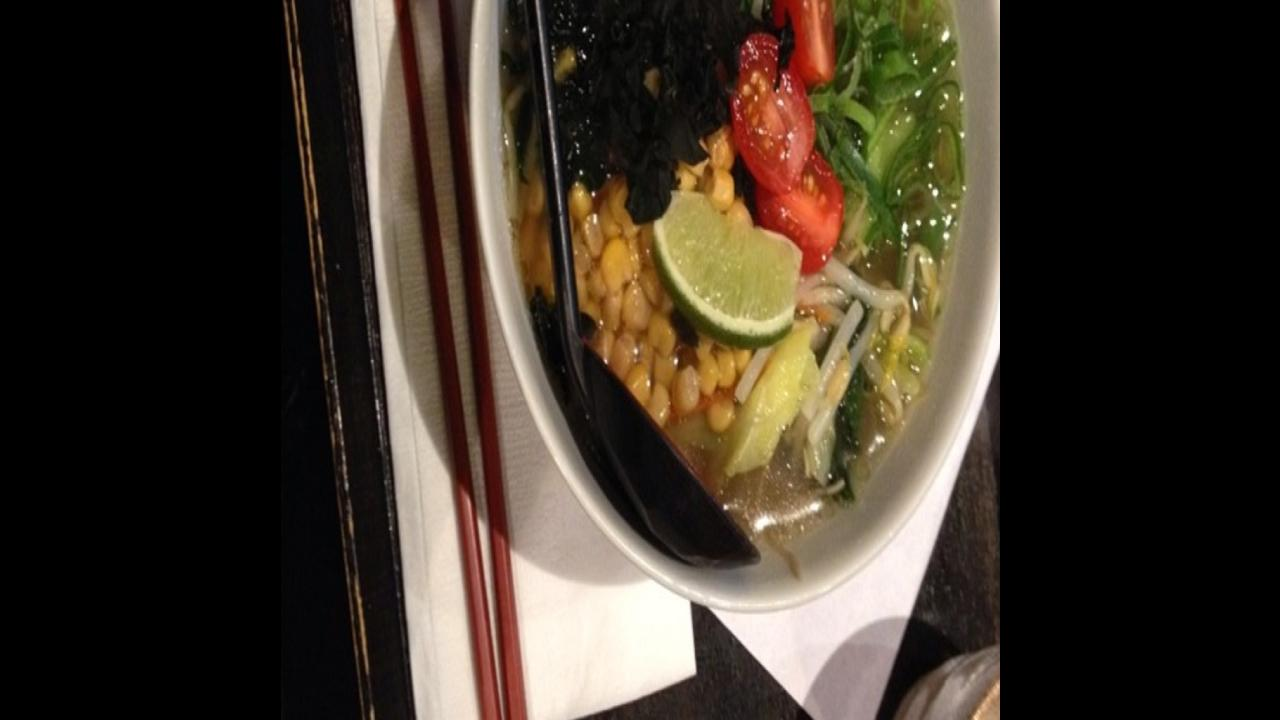chopstick: (371, 0, 538, 720)
